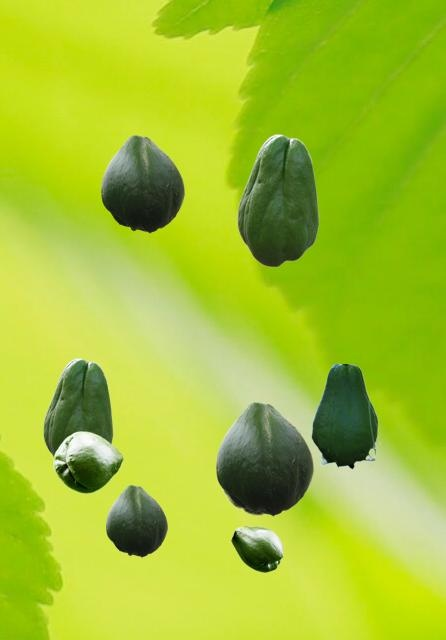sayote: (216, 402, 312, 515), (237, 134, 318, 266), (101, 135, 183, 232), (311, 364, 379, 470), (43, 358, 112, 456), (221, 402, 280, 515), (106, 485, 166, 556), (53, 431, 122, 492), (231, 526, 282, 571)
